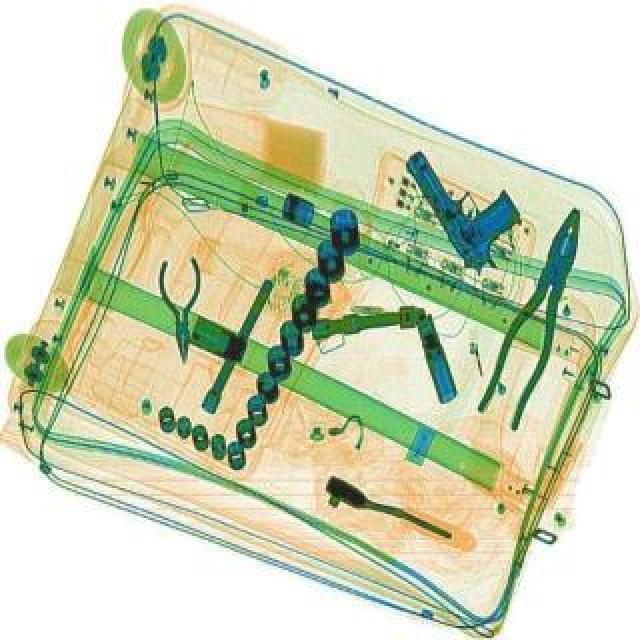gun: (396, 126, 540, 280)
wrench: (472, 202, 606, 432), (158, 254, 206, 364)
